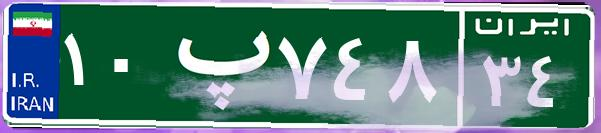0: (110, 28, 158, 105)
1: (57, 26, 110, 107)
3: (475, 38, 525, 113)
4: (330, 28, 385, 110), (525, 38, 570, 115)
7: (273, 28, 330, 110)
8: (385, 28, 445, 110)
پ: (158, 15, 273, 115)
